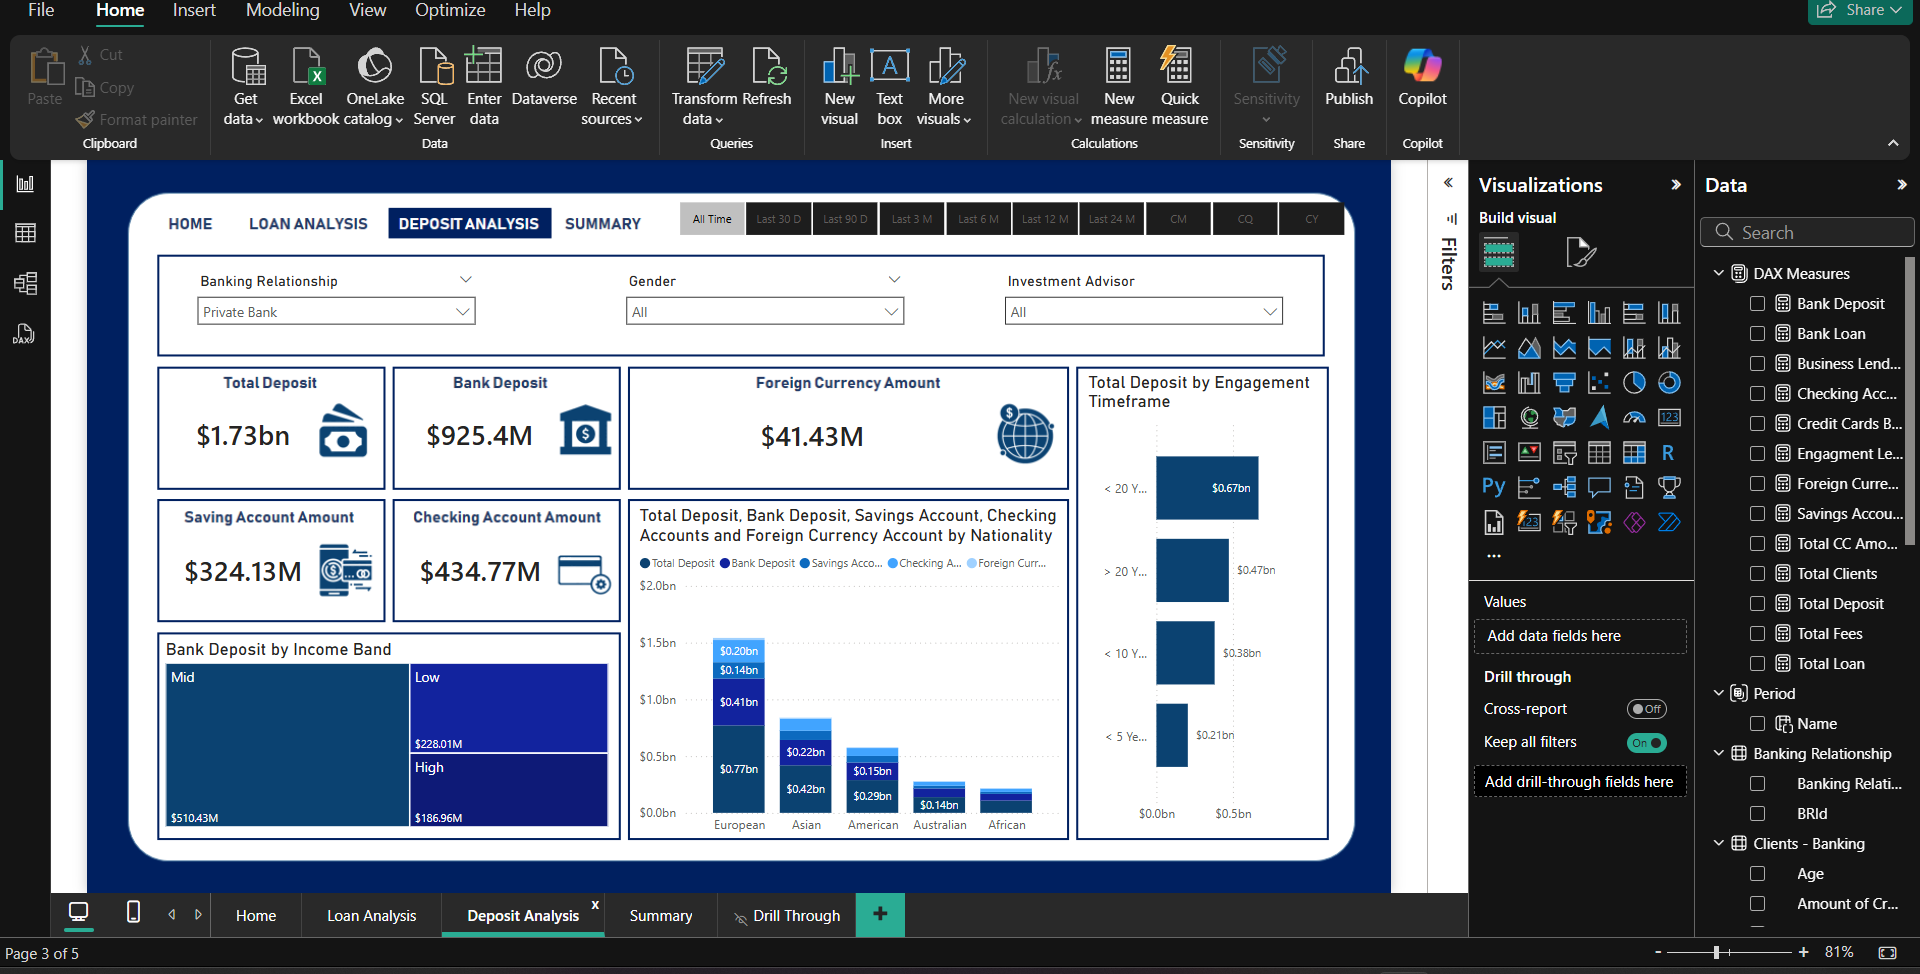

This screenshot's page, from the dashboard's own definition file:
{"tool":"powerbi","page":{"name":"Deposit Analysis","canvas":[1280,720],"ordinal":2},"visuals":[{"type":"card","fields":{"Values":["DAX Measures.Total Deposit"]},"box":[72.7,226.3,161.8,90.3],"z":0},{"type":"card","fields":{"Values":["DAX Measures.Bank Deposit"]},"box":[299,226.3,172.4,89.1],"z":1000},{"type":"card","fields":{"Values":["DAX Measures.Savings Account"]},"box":[72.7,360,161.8,89.1],"z":2000},{"type":"card","fields":{"Values":["DAX Measures.Checking Accounts"]},"box":[300.2,360,171.2,89.1],"z":3000},{"type":"slicer","fields":{"Values":["Banking Relationship.Banking Relationship"]},"box":[98.5,105.2,292.9,75.7],"z":4000},{"type":"slicer","fields":{"Values":["Gender.Gender"]},"box":[518.9,105.2,292.9,75.7],"z":5000},{"type":"slicer","fields":{"Values":["Investment Advisor.Investment Advisor"]},"box":[891.3,105.2,292.9,75.7],"z":6000},{"type":"card","fields":{"Values":["DAX Measures.Foreign Currency Account"]},"box":[537.1,227.5,349.4,89.1],"z":7000},{"type":"treemap","fields":{"Group":["Clients - Banking.Income Band"],"Values":["DAX Measures.Bank Deposit"]},"box":[72.7,470.2,444.4,190],"z":8000},{"type":"columnChart","fields":{"Category":["Clients - Banking.Nationality"],"Y":["DAX Measures.Total Deposit","DAX Measures.Bank Deposit","DAX Measures.Savings Account","DAX Measures.Checking Accounts","DAX Measures.Foreign Currency Account"]},"box":[537.1,338.9,423.3,331.9],"z":9000},{"type":"clusteredBarChart","fields":{"Category":["Clients - Banking.Engagement Timeframe"],"Y":["DAX Measures.Total Deposit"]},"box":[978,207.6,234.5,452.6],"z":10000},{"type":"slicer","fields":{"Values":["Period.Name"]},"box":[555.2,34.6,702.1,46.6],"z":11000},{"type":"actionButton","box":[72.8,44.2,58.5,31],"z":12000},{"type":"actionButton","box":[160,44.2,119.4,31],"z":13000},{"type":"actionButton","box":[471.6,44.2,83.6,31],"z":14000}]}

Visuals, with their boxes on the page's 1280x720 design canvas (x1, y1, x2, y2). These are canvas units, not pixel positions in the 1920x974 screenshot, which may show the page scaled, cropped or inside an application window:
card - DAX Measures.Total Deposit: box(73, 226, 234, 317)
card - DAX Measures.Bank Deposit: box(299, 226, 471, 315)
card - DAX Measures.Savings Account: box(73, 360, 234, 449)
card - DAX Measures.Checking Accounts: box(300, 360, 471, 449)
slicer - Banking Relationship.Banking Relationship: box(98, 105, 391, 181)
slicer - Gender.Gender: box(519, 105, 812, 181)
slicer - Investment Advisor.Investment Advisor: box(891, 105, 1184, 181)
card - DAX Measures.Foreign Currency Account: box(537, 228, 886, 317)
treemap - Clients - Banking.Income Band x DAX Measures.Bank Deposit: box(73, 470, 517, 660)
columnChart - Clients - Banking.Nationality x DAX Measures.Total Deposit: box(537, 339, 960, 671)
clusteredBarChart - Clients - Banking.Engagement Timeframe x DAX Measures.Total Deposit: box(978, 208, 1212, 660)
slicer - Period.Name: box(555, 35, 1257, 81)
actionButton: box(73, 44, 131, 75)
actionButton: box(160, 44, 279, 75)
actionButton: box(472, 44, 555, 75)
